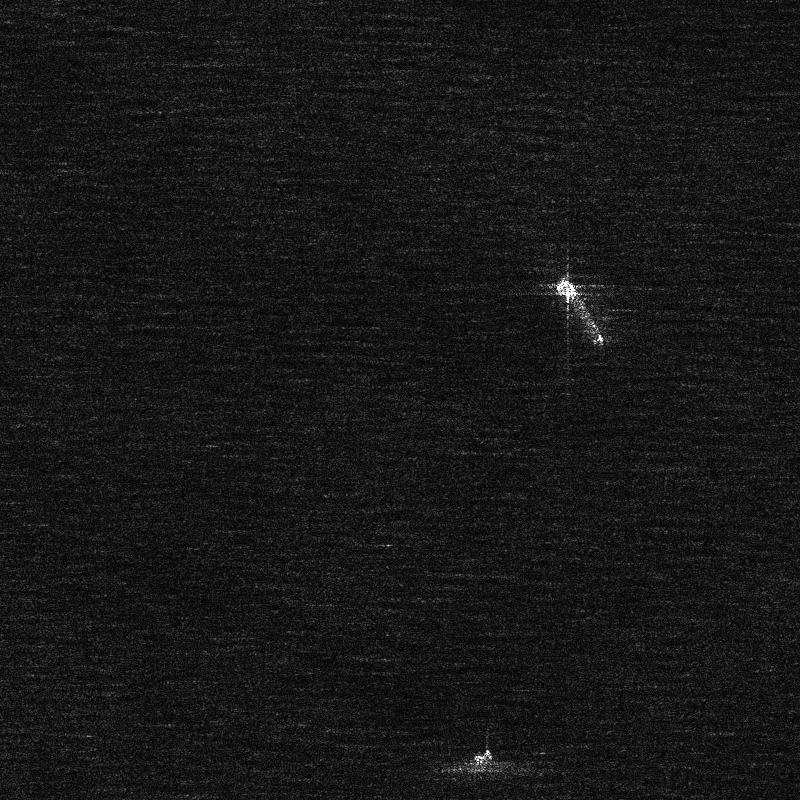ship: (554, 278, 605, 346)
